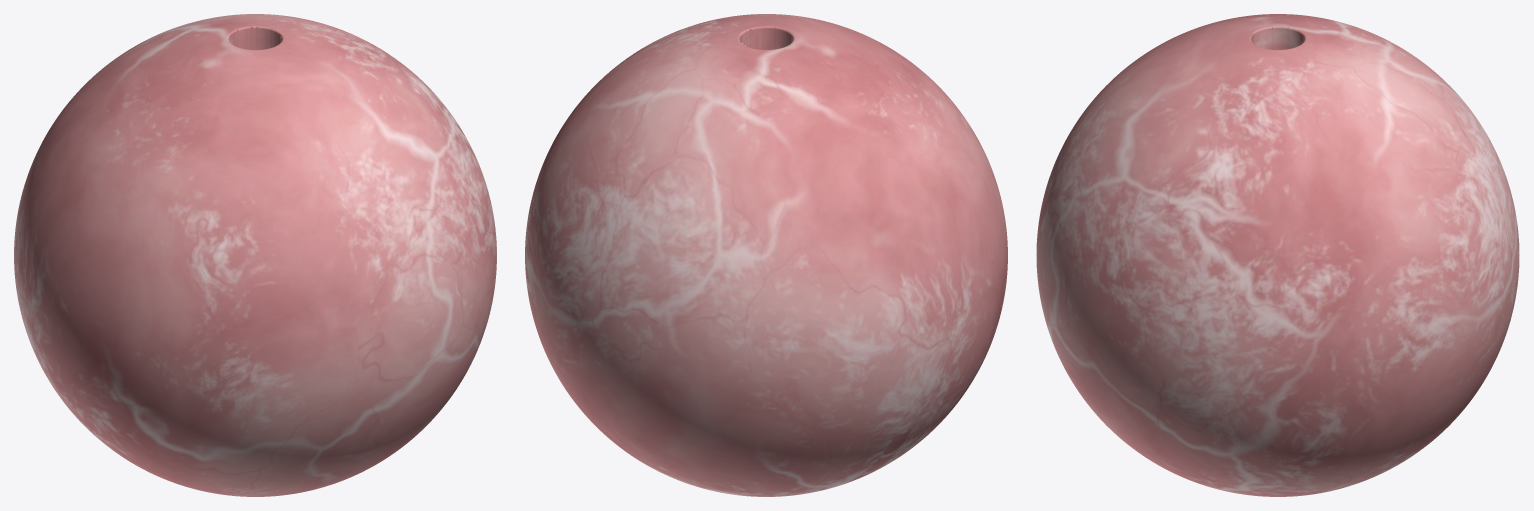
Rendered from rose-quartz-bead.glb.
3 views of the same model, side by side, from view 1: azimuth 30°, elevation 25°; view 2: azimuth 150°, elevation 25°; view 3: azimuth 270°, elevation 25° (orthographic).
Parts seen in each view (by area): view 1: Bead_hi; view 2: Bead_hi; view 3: Bead_hi.
Boxes of the visible parts, x1,y1,x2,y2 form: Bead_hi: (14,14,496,496); Bead_hi: (525,14,1007,496); Bead_hi: (1036,14,1519,496).
Size of the model in its own units: 1 by 0.9939 by 1.
Materials: 1 (1 with a texture image).
